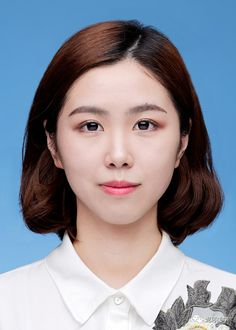unmask: (63, 72, 177, 213)
